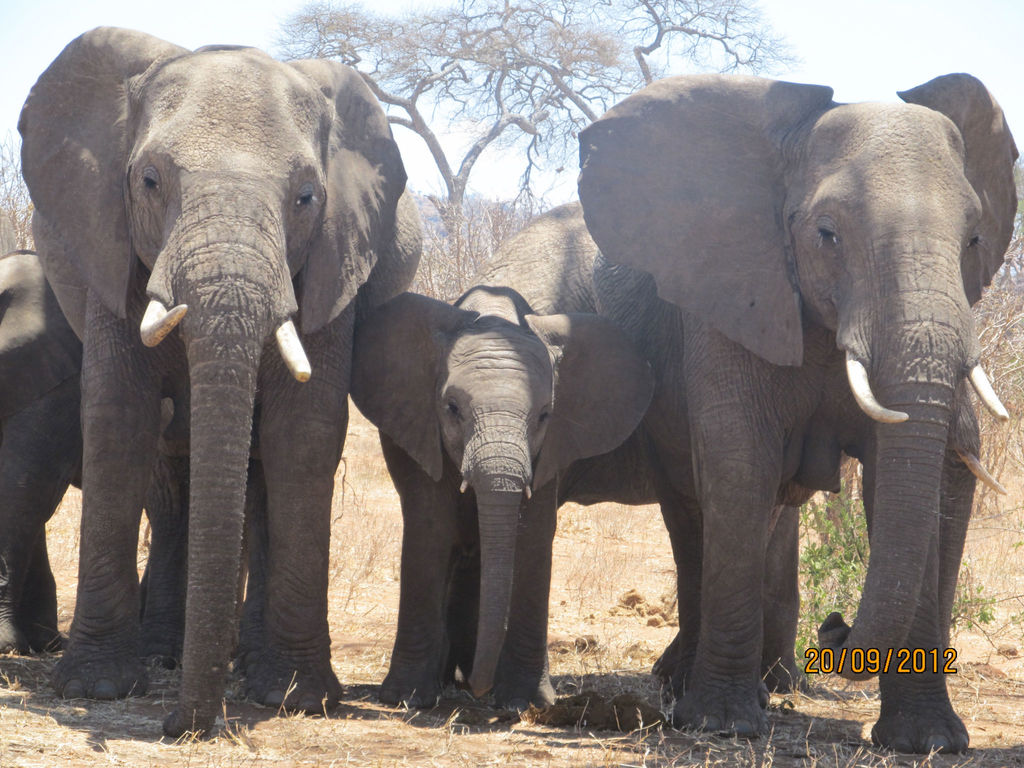Tree: (268, 0, 805, 257)
